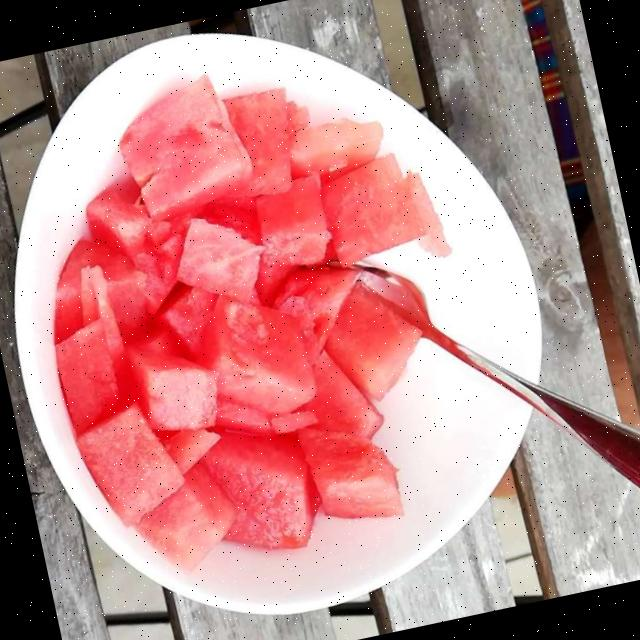watermelon-fresh: (57, 90, 434, 549)
